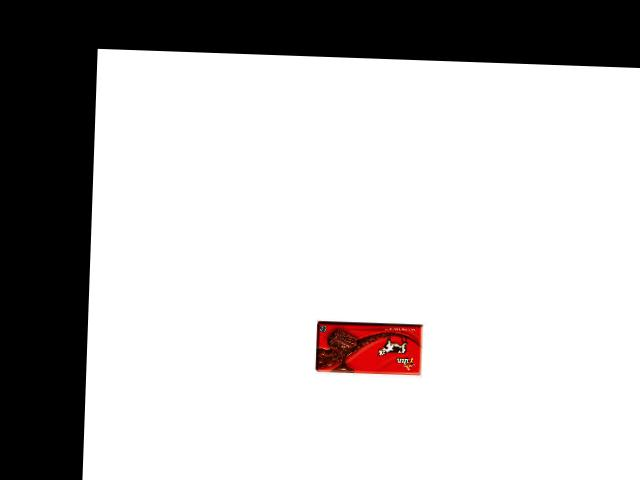chocolate: (312, 315, 426, 377)
